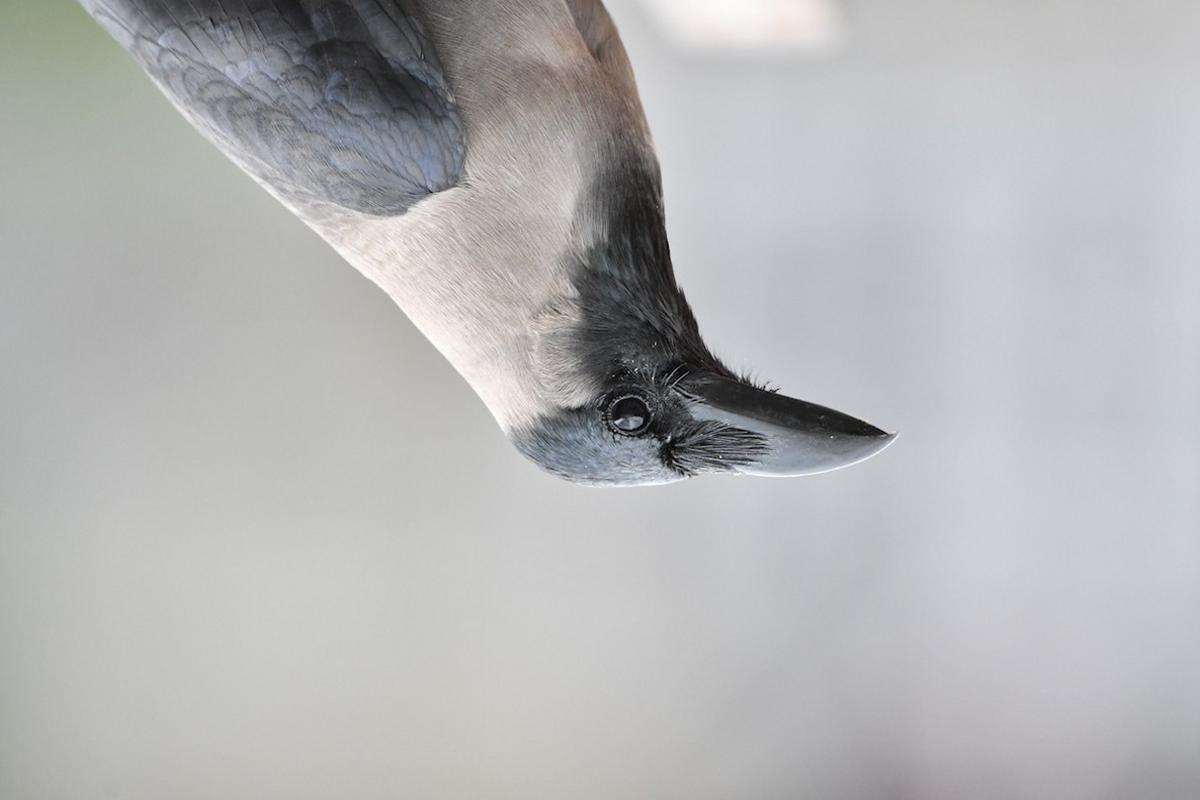crow: (119, 1, 904, 498)
